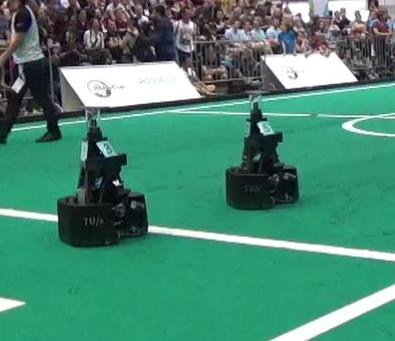robot: (51, 103, 152, 248), (221, 88, 304, 212)
